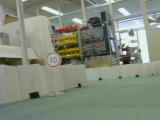speed_10: (45, 51, 62, 68)
